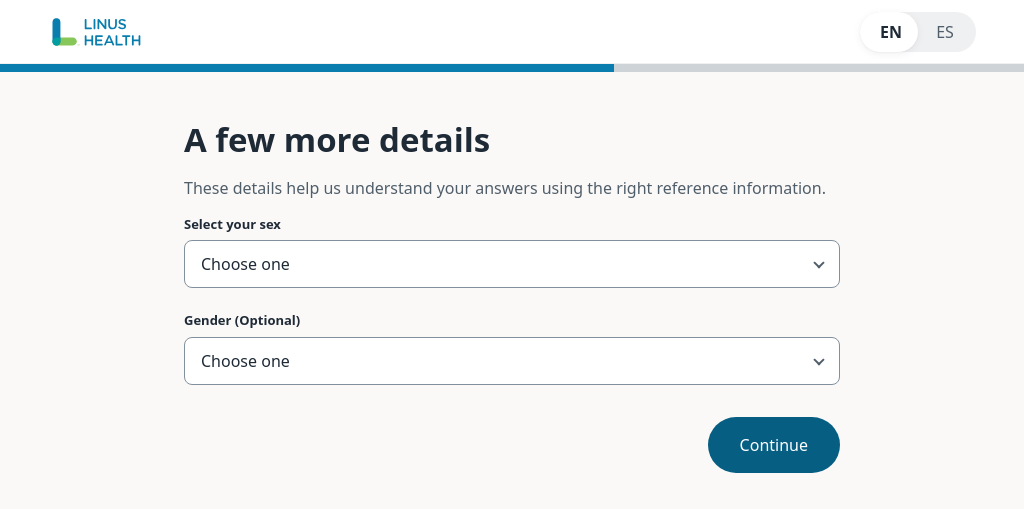
Test case: GenderIdentityPage › clears the sex error once it is answered
The width and height of the screenshot is (1024, 509).
Click the button "Continue".
click(774, 445)  # box [708, 417, 840, 473]
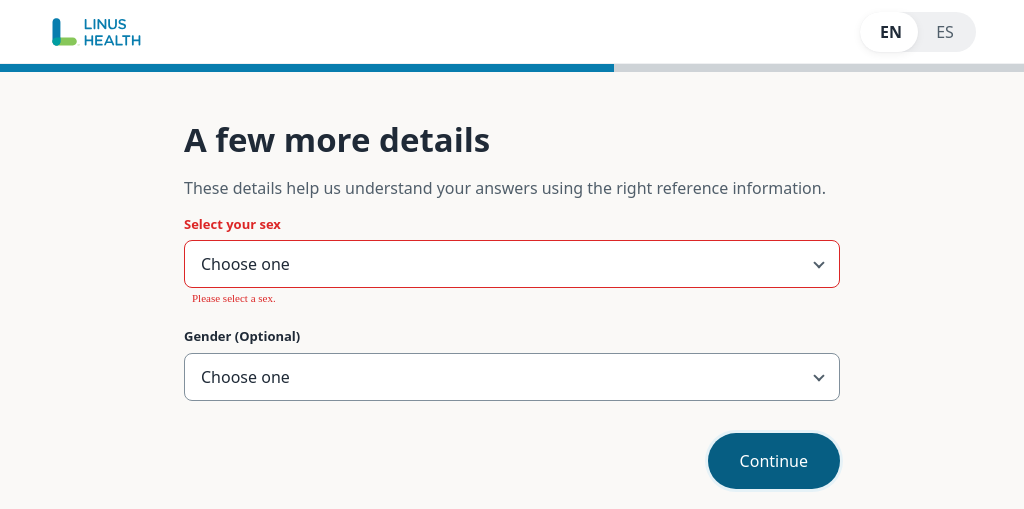
Expected: the text "Please select a sex." is shown, [192, 292, 276, 304]
Select "Female" in the dropdown labelled "Select your sex" at (512, 264), box [185, 242, 839, 288]
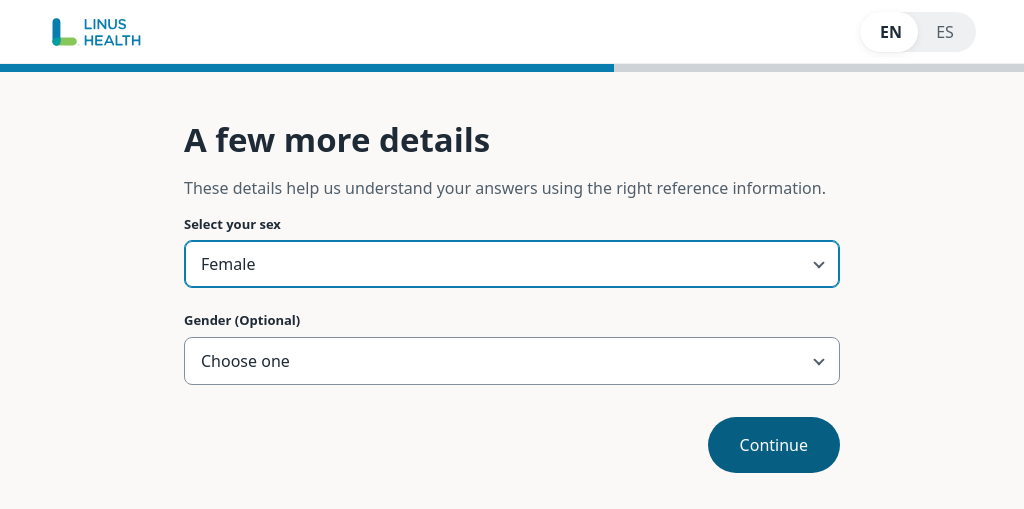
Expected: the text "Please select a sex." is gone
